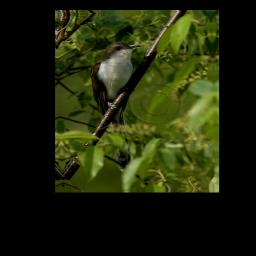Cuckoo: (90, 37, 147, 156)
